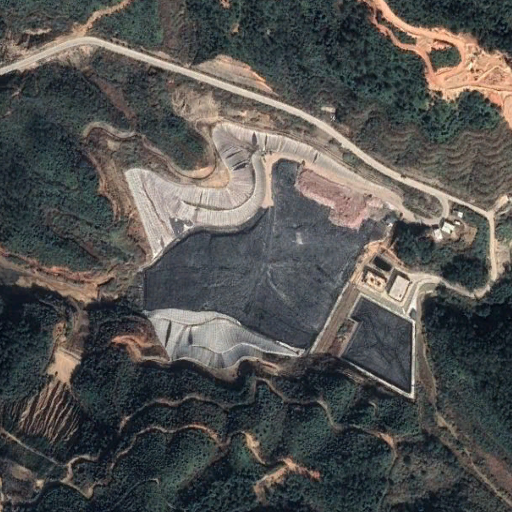lf: (122, 122, 383, 374)
